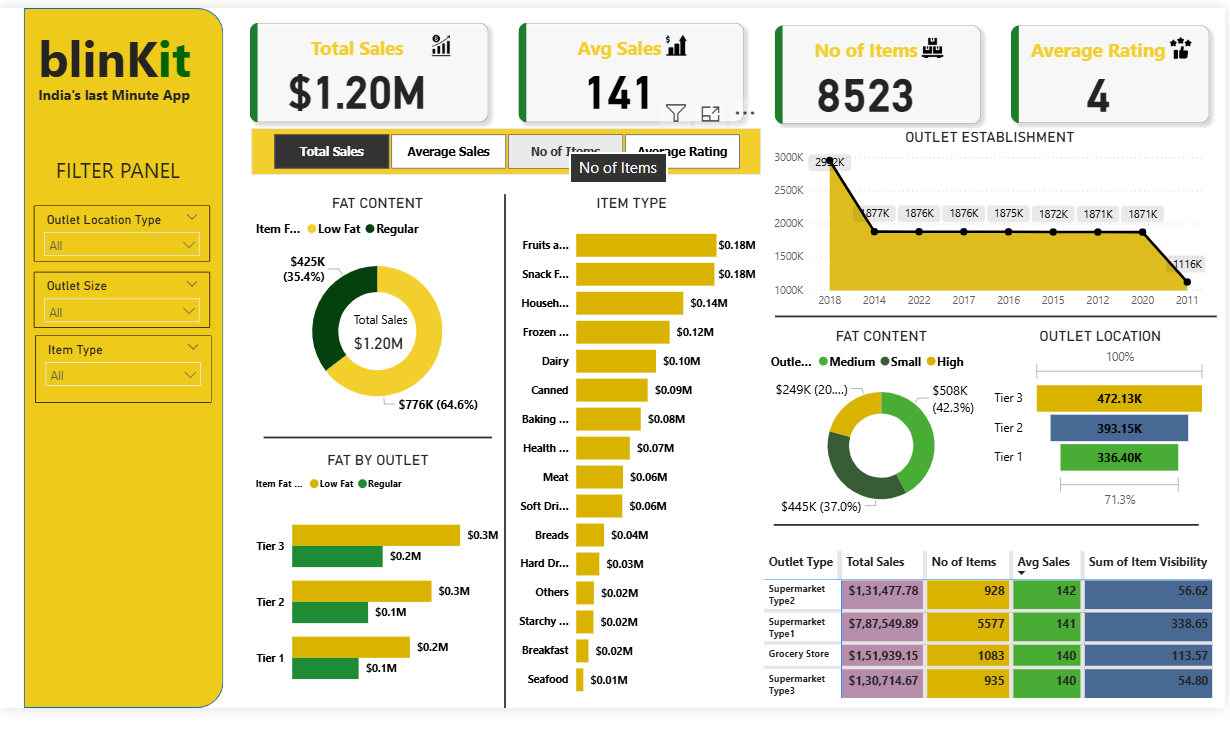

What the dashboard file says about the page in this screenshot:
{"tool":"powerbi","page":{"name":"Page 1","canvas":[1400,800],"ordinal":0},"visuals":[{"type":"shape","box":[27,0,228.1,800],"z":0},{"type":"textbox","box":[39,13.5,196.6,85.5],"z":1000},{"type":"textbox","box":[39,82.5,196.6,42],"z":2000},{"type":"cardVisual","fields":{"Data":["BlinkIT Grocery Data.Total Sales"]},"box":[268.8,0,307.5,148.8],"z":3000},{"type":"cardVisual","fields":{"Data":["BlinkIT Grocery Data.Average Sales"]},"box":[576.2,0,292.5,148.8],"z":4000},{"type":"cardVisual","fields":{"Data":["BlinkIT Grocery Data.Number of Items"]},"box":[868.8,2.5,270,147.5],"z":5000},{"type":"cardVisual","fields":{"Data":["BlinkIT Grocery Data.Average Rating"]},"box":[1138.8,2.5,261.2,146.2],"z":6000},{"type":"donutChart","title":"FAT CONTENT","fields":{"Y":["BlinkIT Grocery Data.Total Sales"],"Category":["BlinkIT Grocery Data.Item Fat Content"]},"box":[287.1,212.9,288.6,264.3],"z":7000},{"type":"slicer","fields":{"Values":["Metrics.Metrics"]},"box":[287.5,137.5,582.5,53.8],"z":8000},{"type":"textbox","box":[869,202.6,270.2,70.5],"z":9000},{"type":"cardVisual","fields":{"Data":["BlinkIT Grocery Data.Total Sales"]},"box":[387.2,330.2,117.1,70.5],"z":10000},{"type":"clusteredBarChart","title":"FAT BY OUTLET","fields":{"Y":["BlinkIT Grocery Data.Total Sales"],"Category":["BlinkIT Grocery Data.Outlet Location Type"],"Series":["BlinkIT Grocery Data.Item Fat Content"]},"box":[286.7,505.8,289.7,294.2],"z":11000},{"type":"shape","box":[301.7,429.2,261.2,124.6],"z":12000},{"type":"barChart","title":"ITEM TYPE","fields":{"Y":["BlinkIT Grocery Data.Total Sales"],"Category":["BlinkIT Grocery Data.Item Type"]},"box":[576.3,213.1,292.7,586.8],"z":13000},{"type":"lineChart","title":" OUTLET ESTABLISHMENT ","fields":{"Y":["Sum(BlinkIT Grocery Data.Outlet Establishment Year)"],"Category":["BlinkIT Grocery Data.Outlet Establishment Year"]},"box":[880,137.5,502.5,215],"z":14000},{"type":"shape","box":[886.2,290,505,125],"z":15000},{"type":"shape","box":[324.3,212.9,505.7,587.1],"z":16000},{"type":"donutChart","title":"FAT CONTENT","fields":{"Y":["BlinkIT Grocery Data.Total Sales"],"Category":["BlinkIT Grocery Data.Outlet Size"]},"box":[876,365,263,223],"z":17000},{"type":"funnel","title":" OUTLET LOCATION ","fields":{"Y":["Sum(BlinkIT Grocery Data.Sales)"],"Category":["BlinkIT Grocery Data.Outlet Location Type"]},"box":[1131.2,365,252.5,212.5],"z":18000},{"type":"pivotTable","fields":{"Rows":["BlinkIT Grocery Data.Outlet Type"],"Values":["BlinkIT Grocery Data.Total Sales","BlinkIT Grocery Data.No of Items","BlinkIT Grocery Data.Average Sales","Sum(BlinkIT Grocery Data.Item Visibility)"]},"box":[868.6,615.7,531.4,184.3],"z":19000},{"type":"shape","box":[884.3,528.6,485.7,124.3],"z":20000},{"type":"slicer","fields":{"Values":["BlinkIT Grocery Data.Outlet Location Type"]},"box":[38.6,225.7,201.4,64.3],"z":21000},{"type":"slicer","fields":{"Values":["BlinkIT Grocery Data.Outlet Size"]},"box":[38.6,301.4,201.4,64.3],"z":22000},{"type":"slicer","fields":{"Values":["BlinkIT Grocery Data.Item Type"]},"box":[40,374.3,201.4,77.1],"z":23000},{"type":"textbox","box":[26.7,165,215,60],"z":24000}]}

Visuals, with their boxes on the page's 1400x800 design canvas (x1, y1, x2, y2). These are canvas units, not pixel positions in the 1230x731 screenshot, which may show the page scaled, cropped or inside an application window:
shape: <box>27,0,255,800</box>
textbox: <box>39,14,236,99</box>
textbox: <box>39,82,236,124</box>
cardVisual - BlinkIT Grocery Data.Total Sales: <box>269,0,576,149</box>
cardVisual - BlinkIT Grocery Data.Average Sales: <box>576,0,869,149</box>
cardVisual - BlinkIT Grocery Data.Number of Items: <box>869,2,1139,150</box>
cardVisual - BlinkIT Grocery Data.Average Rating: <box>1139,2,1400,149</box>
"FAT CONTENT" donutChart: <box>287,213,576,477</box>
slicer - Metrics.Metrics: <box>288,138,870,191</box>
textbox: <box>869,203,1139,273</box>
cardVisual - BlinkIT Grocery Data.Total Sales: <box>387,330,504,401</box>
"FAT BY OUTLET" clusteredBarChart: <box>287,506,576,800</box>
shape: <box>302,429,563,554</box>
"ITEM TYPE" barChart: <box>576,213,869,800</box>
" OUTLET ESTABLISHMENT " lineChart: <box>880,138,1382,352</box>
shape: <box>886,290,1391,415</box>
shape: <box>324,213,830,800</box>
"FAT CONTENT" donutChart: <box>876,365,1139,588</box>
" OUTLET LOCATION " funnel: <box>1131,365,1384,578</box>
pivotTable - BlinkIT Grocery Data.Outlet Type x BlinkIT Grocery Data.Total Sales: <box>869,616,1400,800</box>
shape: <box>884,529,1370,653</box>
slicer - BlinkIT Grocery Data.Outlet Location Type: <box>39,226,240,290</box>
slicer - BlinkIT Grocery Data.Outlet Size: <box>39,301,240,366</box>
slicer - BlinkIT Grocery Data.Item Type: <box>40,374,241,451</box>
textbox: <box>27,165,242,225</box>
